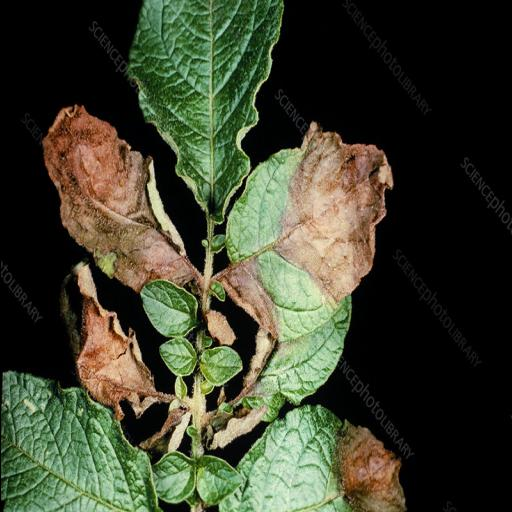Late Blight: (222, 114, 398, 346), (42, 94, 204, 302), (215, 397, 411, 512), (58, 263, 166, 422)
